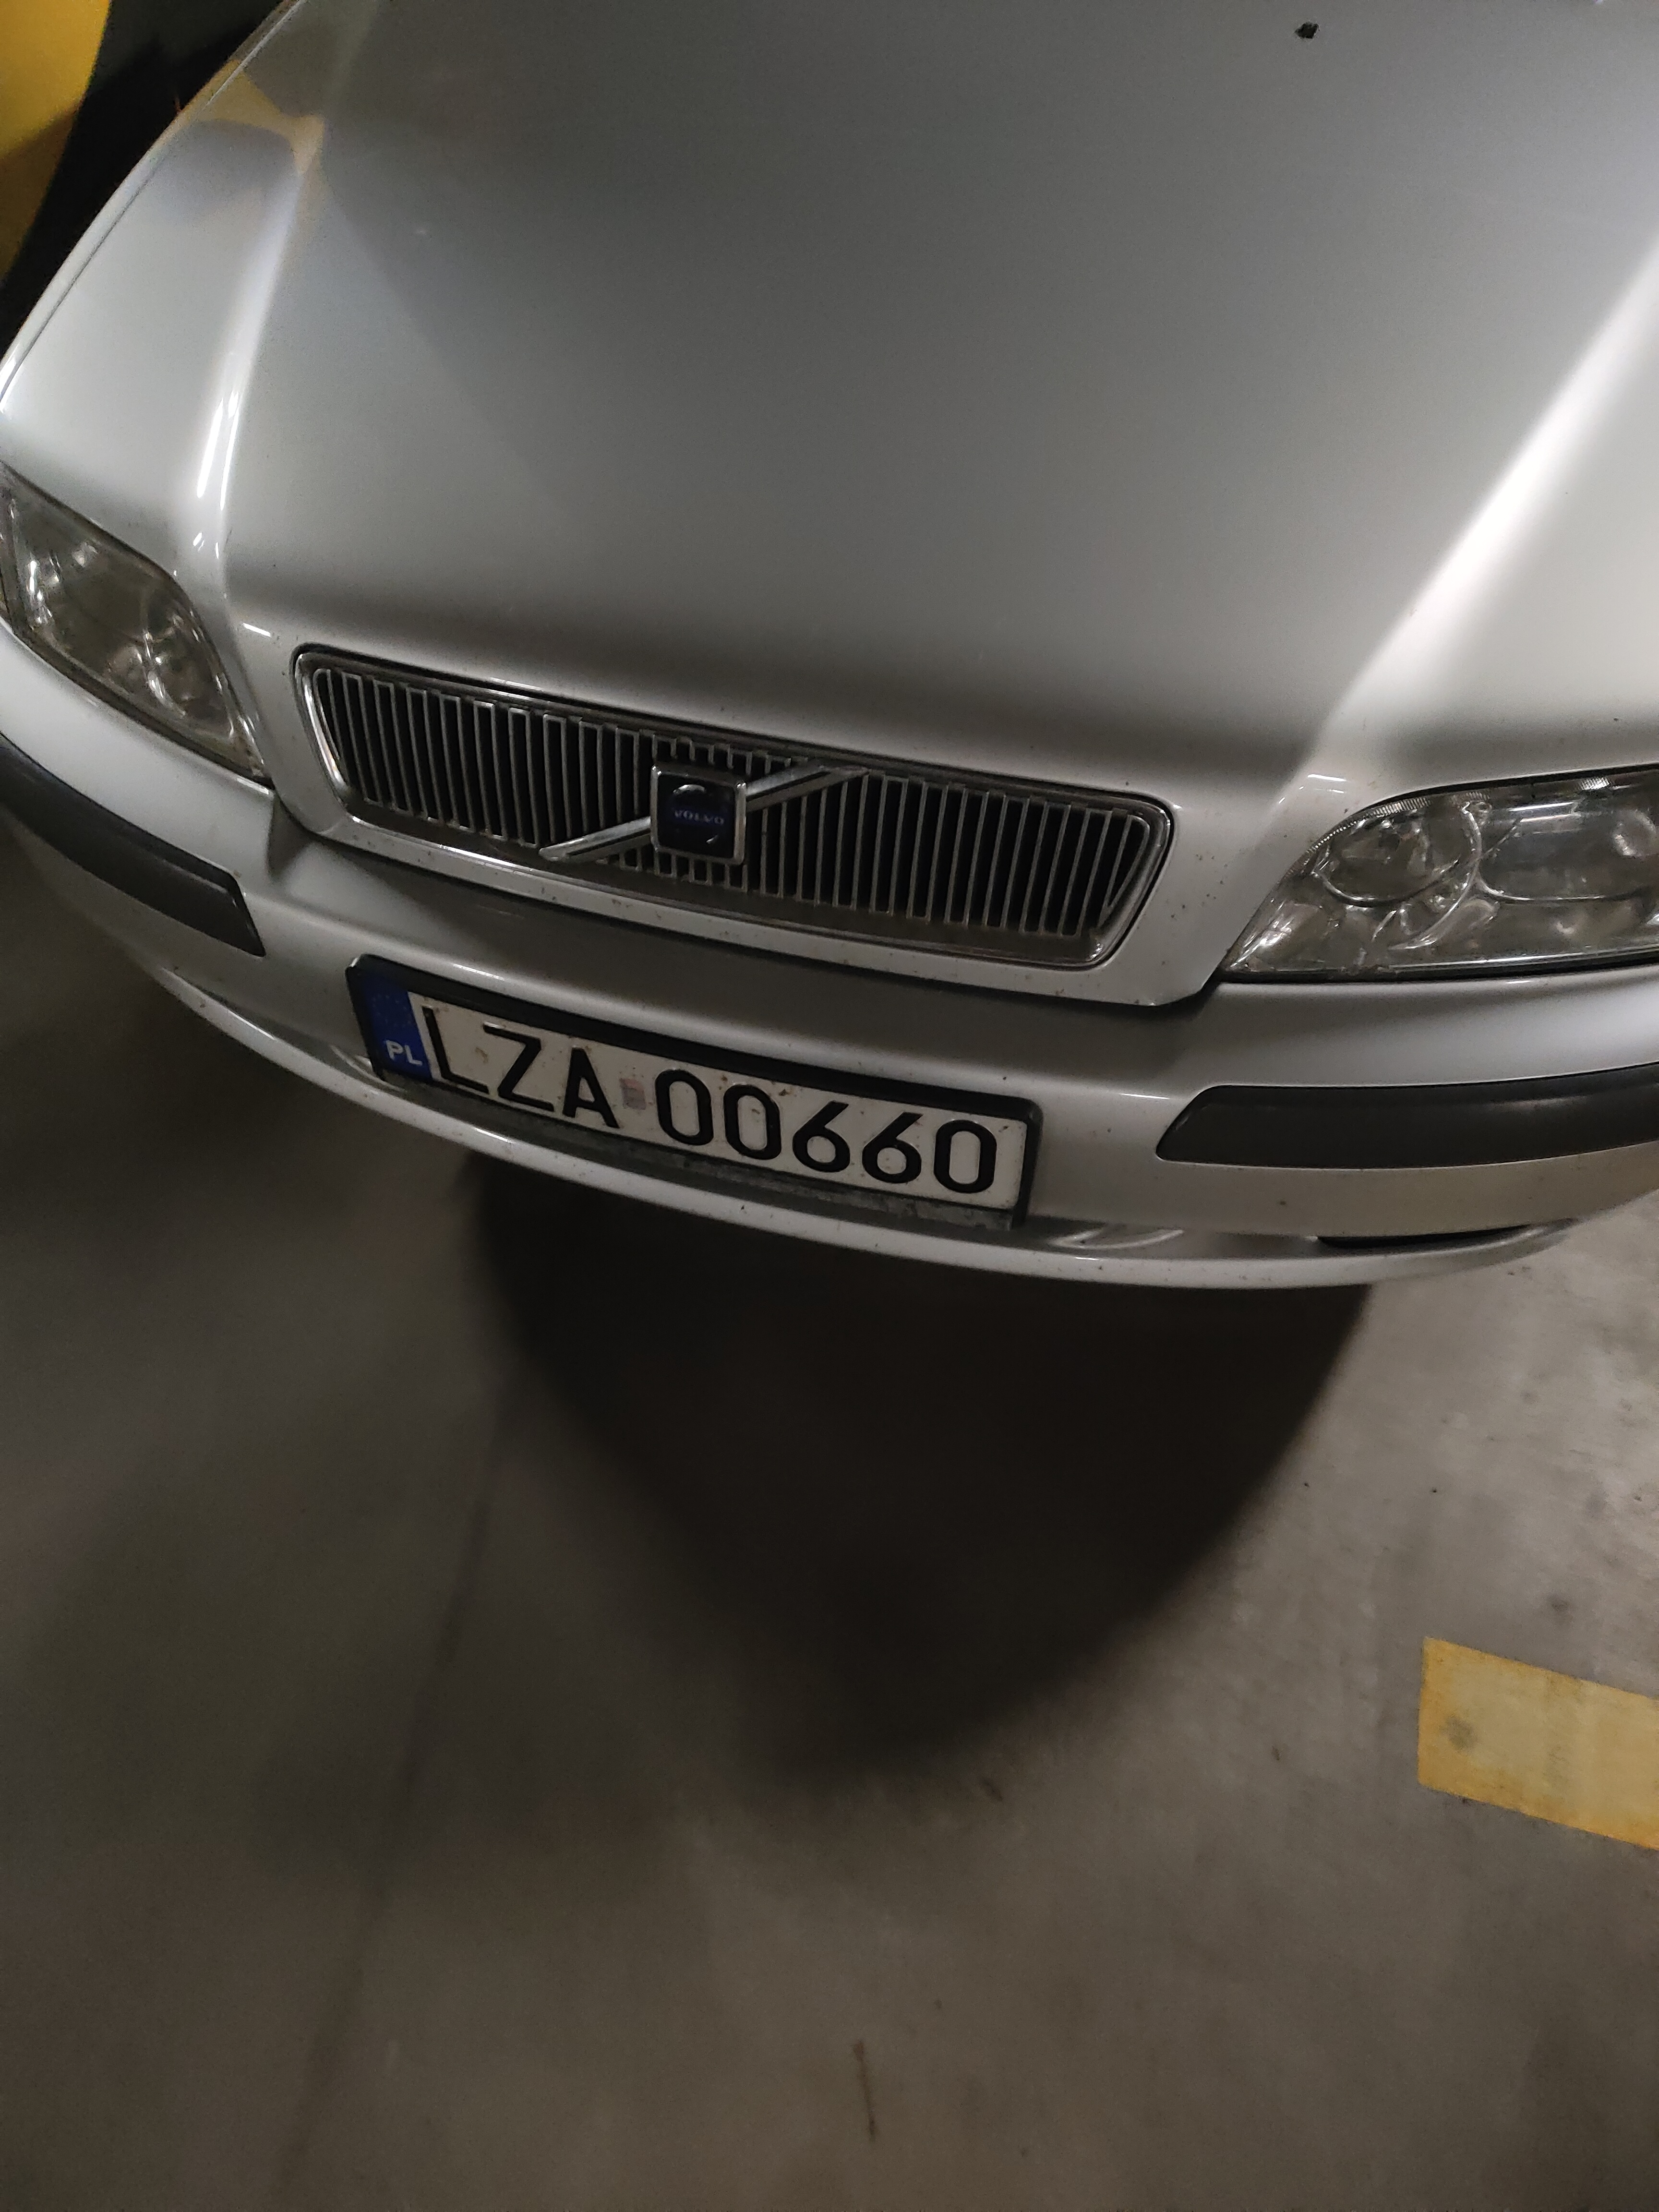number_plate: (347, 957, 1036, 1257)
